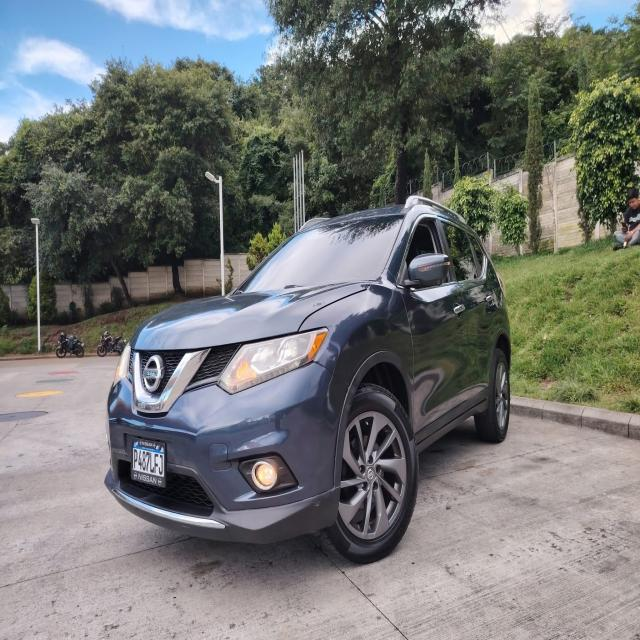Placas: (131, 433, 168, 491)
